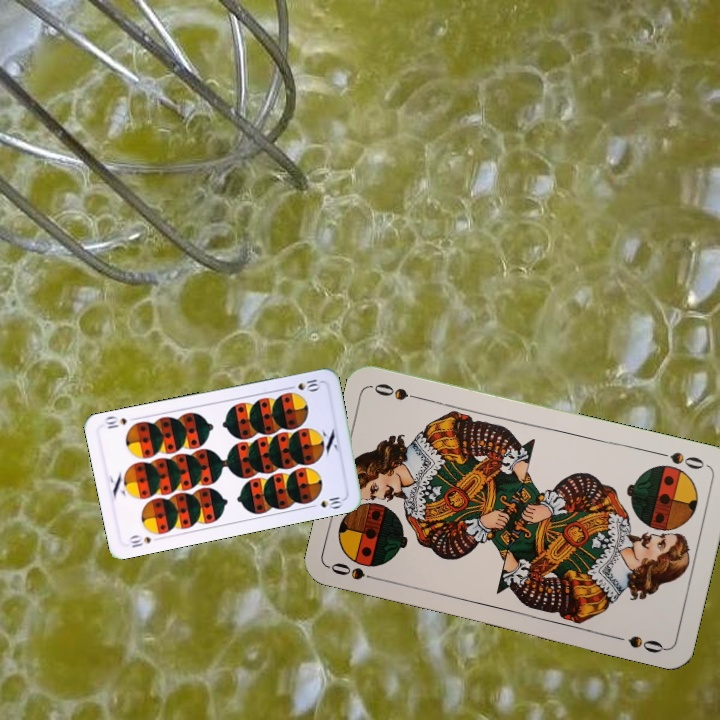S10: (283, 375, 322, 393), (125, 531, 154, 550)
SO: (327, 558, 386, 585), (652, 447, 707, 472)
